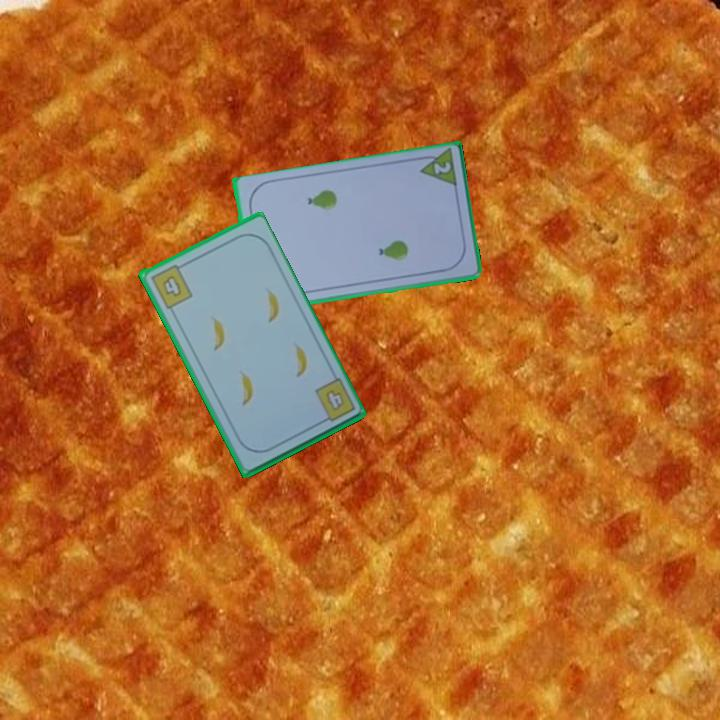2p: (413, 147, 460, 191)
4b: (146, 260, 195, 312), (311, 375, 358, 427)
